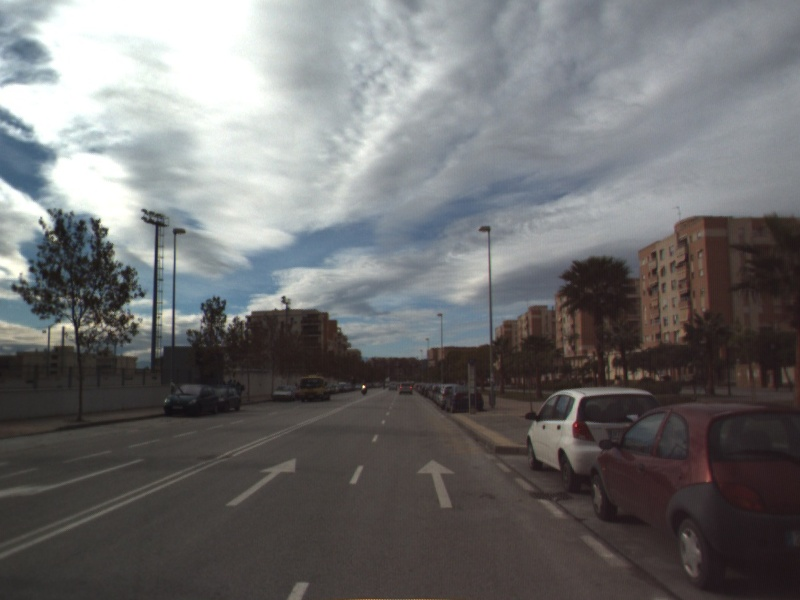STRAIGHT: (224, 457, 298, 508), (415, 457, 457, 510)
